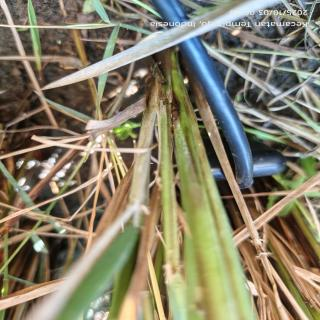Busuk-Pelepah: (151, 47, 172, 79), (145, 68, 155, 110), (173, 91, 179, 132)
